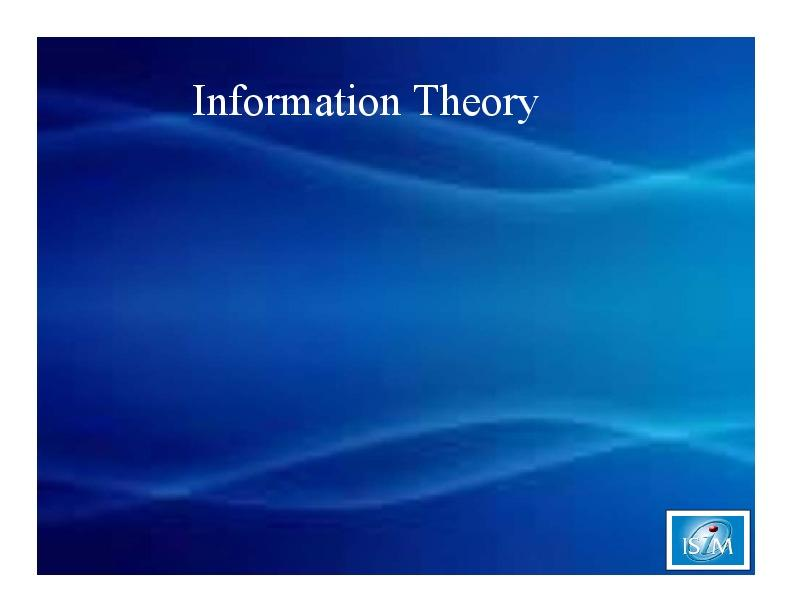title: (186, 80, 543, 129)
